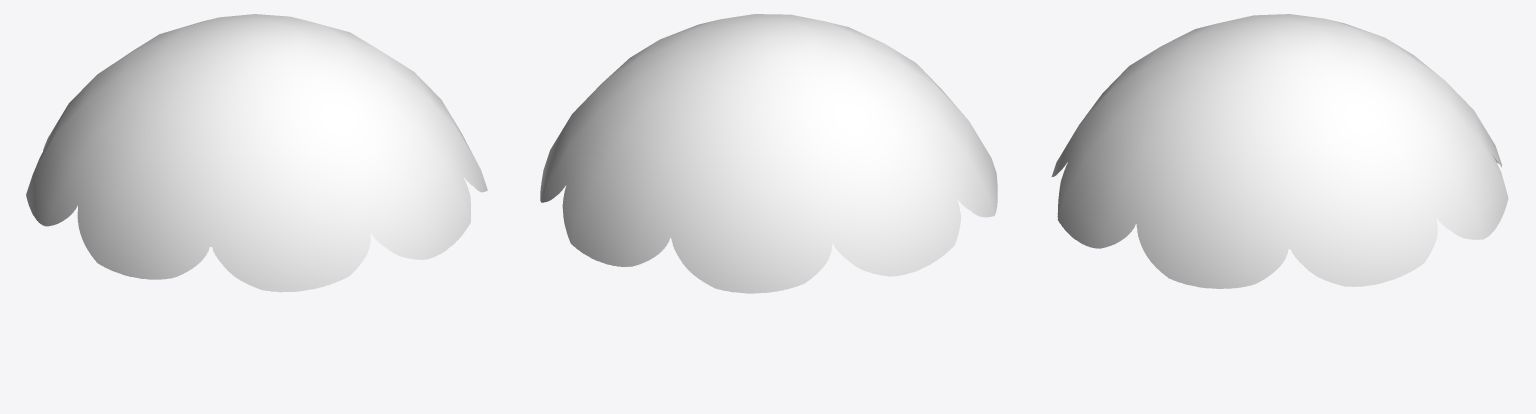
The model's file is BushSnow.fbx.
3 views of the same model, side by side, from view 1: azimuth 30°, elevation 25°; view 2: azimuth 150°, elevation 25°; view 3: azimuth 270°, elevation 25° (orthographic).
Visible parts, largest first — view 1: Bush2Snow; view 2: Bush2Snow; view 3: Bush2Snow.
Part boxes in pixels (bbox=[...]): Bush2Snow: bbox=[26, 14, 487, 292]; Bush2Snow: bbox=[540, 14, 997, 293]; Bush2Snow: bbox=[1051, 14, 1508, 288].
Bounding box in the file's own units: 0.701 × 0.4213 × 0.701.
1 material, 1 textured.
